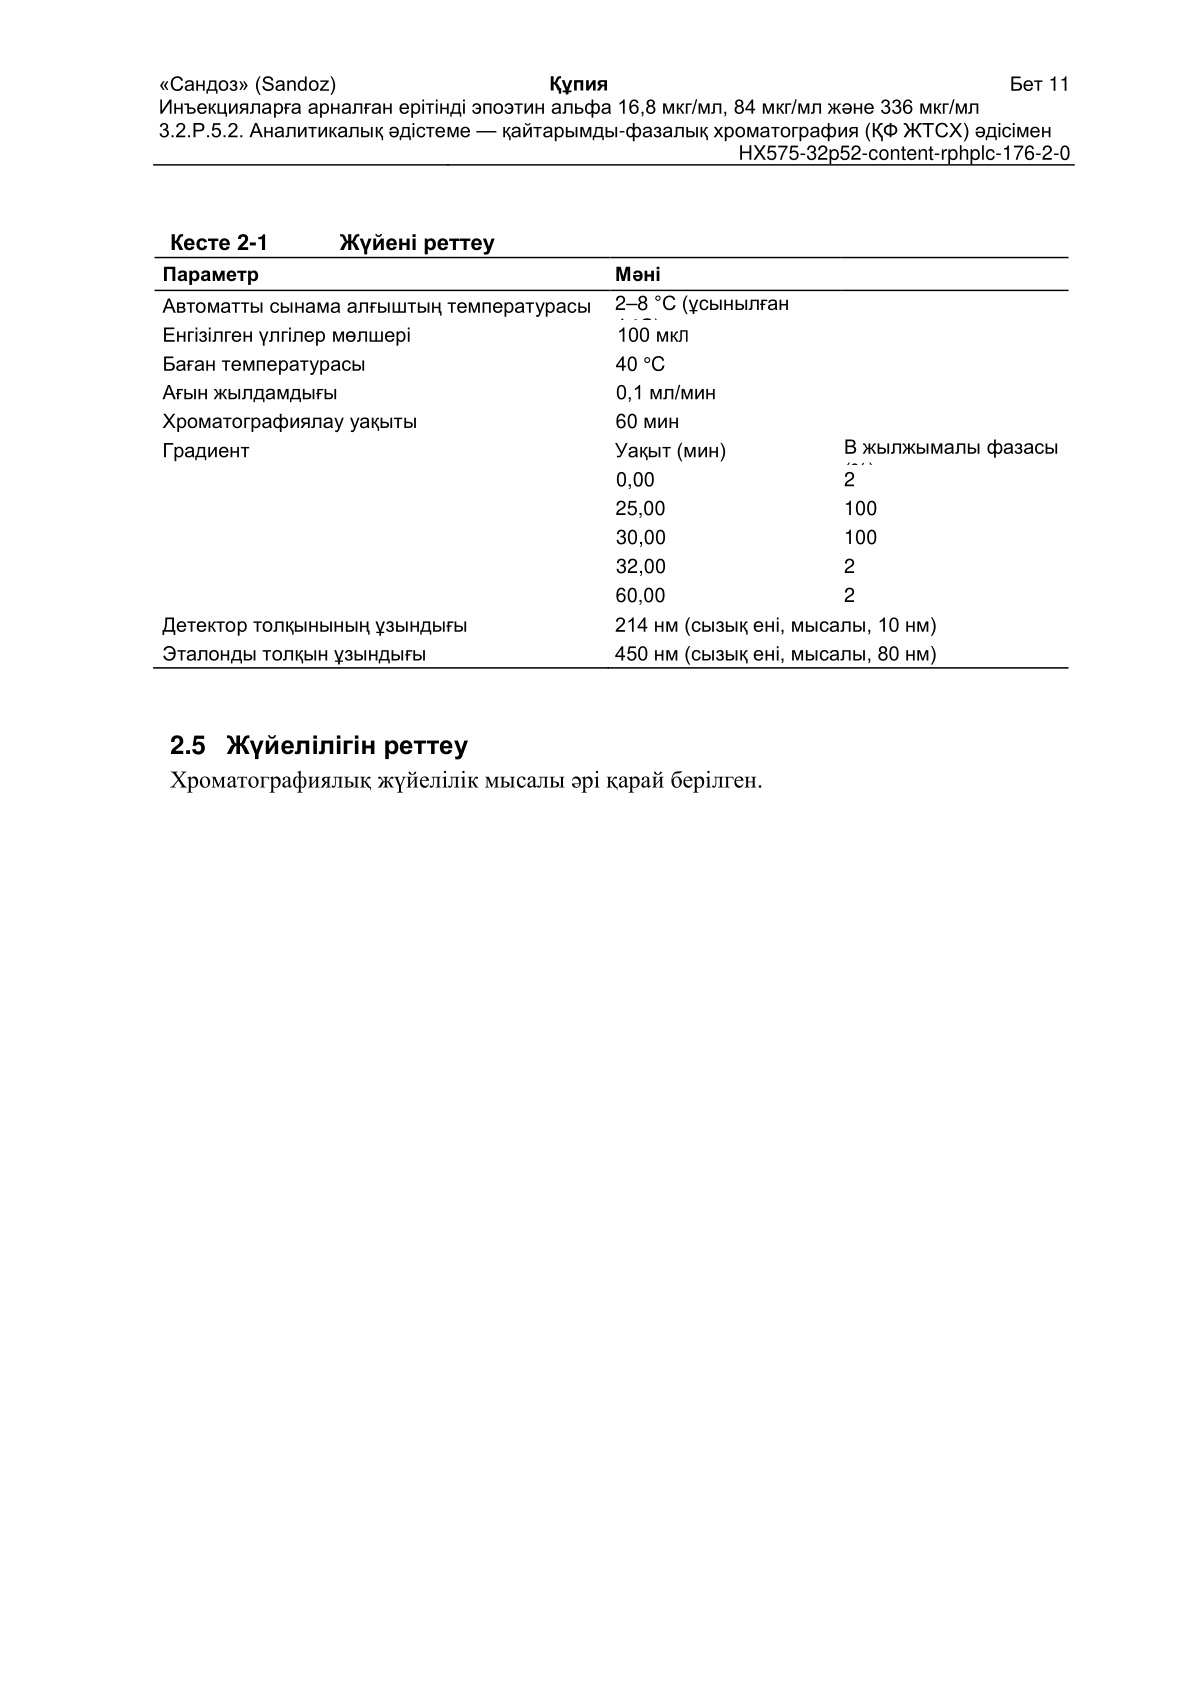partial_lined: (151, 255, 1070, 673)
